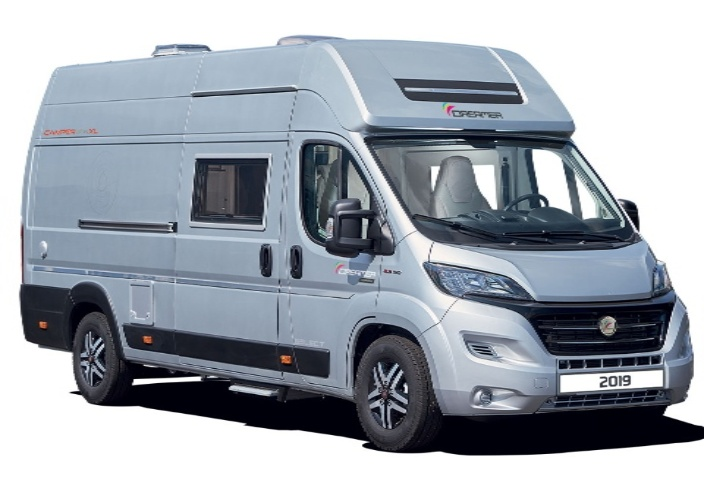van: (22, 29, 698, 442)
